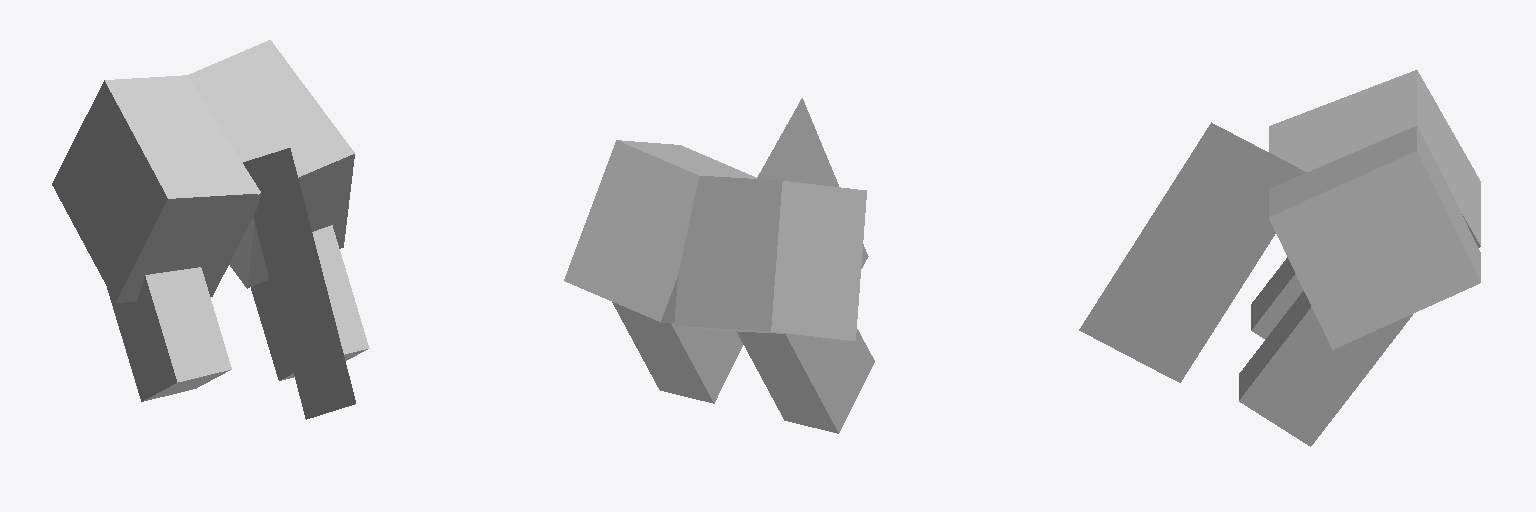
The model's file is mt_horse_bt.obj.
3 views of the same model, side by side, from view 1: azimuth 30°, elevation 25°; view 2: azimuth 150°, elevation 25°; view 3: azimuth 270°, elevation 25° (orthographic).
Visible parts, largest first — view 1: cube.000, cube.002, cube.001, cube, cube.003; view 2: cube.000, cube.002, cube, cube.003, cube.001; view 3: cube.002, cube.001, cube.000, cube.003, cube.
Part boxes in pixels (x1,y1,x2,y2): cube.000: (52, 75, 260, 302); cube.002: (188, 40, 354, 288); cube.001: (243, 148, 355, 419); cube: (107, 267, 231, 401); cube.003: (251, 225, 369, 380); cube.000: (674, 176, 866, 340); cube.002: (564, 140, 756, 322); cube: (736, 329, 874, 433); cube.003: (612, 302, 742, 403); cube.001: (757, 98, 868, 268); cube.002: (1269, 126, 1480, 349); cube.001: (1079, 122, 1306, 382); cube.000: (1269, 70, 1480, 247); cube.003: (1239, 291, 1412, 446); cube: (1251, 257, 1303, 339).
Size of the model in its own units: 1.26 by 1.54 by 1.93.